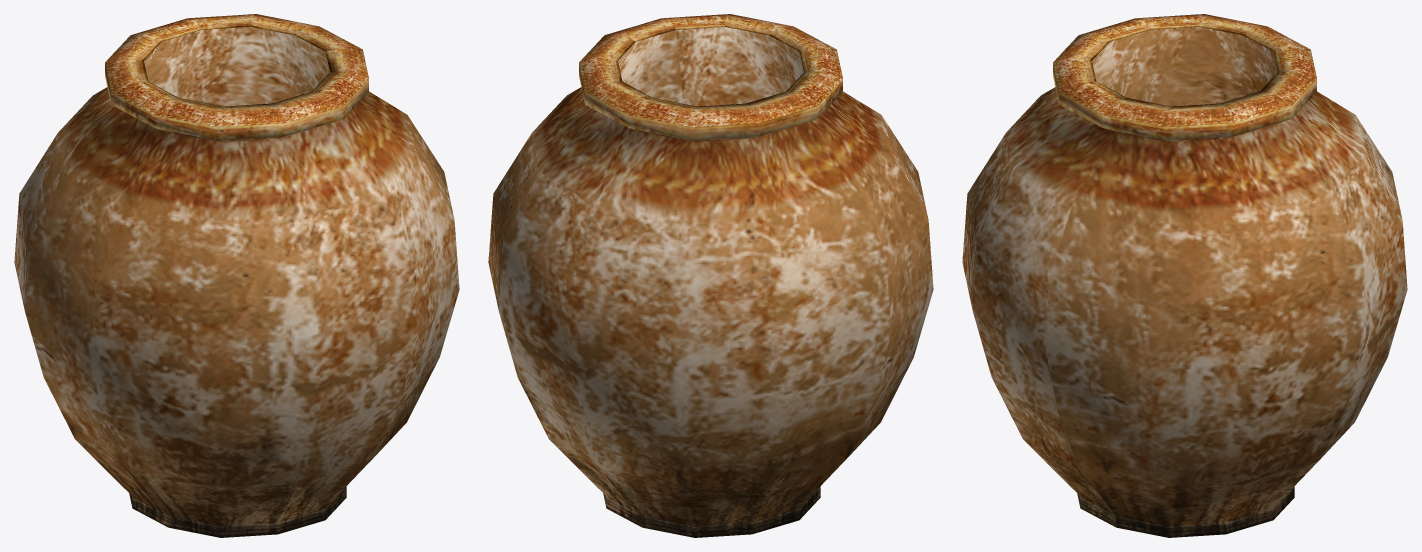
The model's file is crock5.obj.
The picture shows the model from 3 angles, left to right: view 1: azimuth 30°, elevation 25°; view 2: azimuth 150°, elevation 25°; view 3: azimuth 270°, elevation 25°; orthographic projection.
Visible parts, largest first — view 1: crock5.obj; view 2: crock5.obj; view 3: crock5.obj.
Part boxes in pixels (x1,y1,x2,y2): crock5.obj: [14, 14, 459, 537]; crock5.obj: [488, 14, 933, 537]; crock5.obj: [962, 14, 1407, 537].
Size of the model in its own units: 26.25 by 27.33 by 25.85.
1 material, 1 textured.
